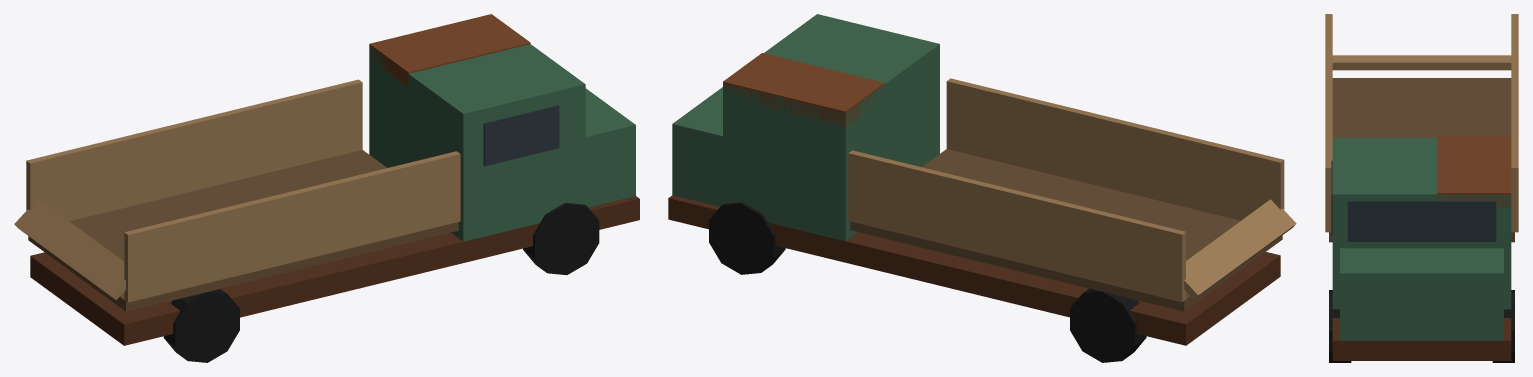
The model's file is caminhao_abandonado.glb.
The picture shows the model from 3 angles, left to right: view 1: azimuth 30°, elevation 25°; view 2: azimuth 150°, elevation 25°; view 3: azimuth 270°, elevation 25°; orthographic projection. The views are drawn at different scales.
Visible parts, largest first — view 1: caminhao_abandonado; view 2: caminhao_abandonado; view 3: caminhao_abandonado.
Boxes of the visible parts, bbox=[...] form: caminhao_abandonado: bbox=[14, 14, 639, 362]; caminhao_abandonado: bbox=[668, 14, 1296, 362]; caminhao_abandonado: bbox=[1325, 14, 1518, 362].
Size of the model in its own units: 7.81 by 2.62 by 2.6.
